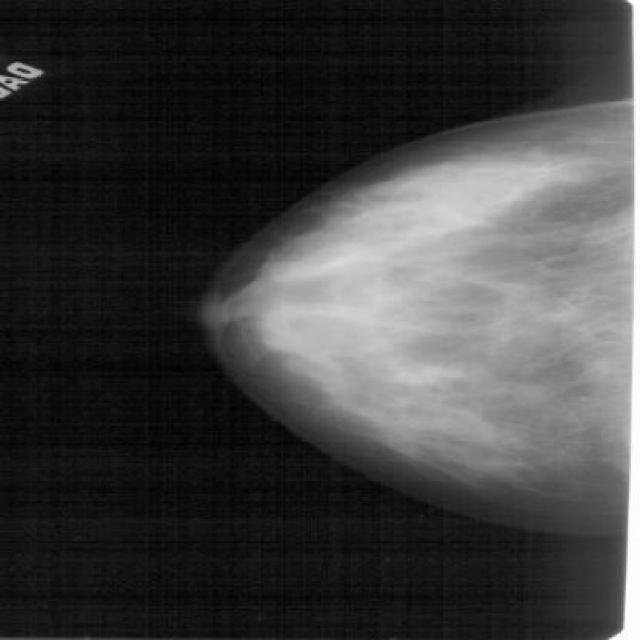tumor: (222, 158, 570, 500)
